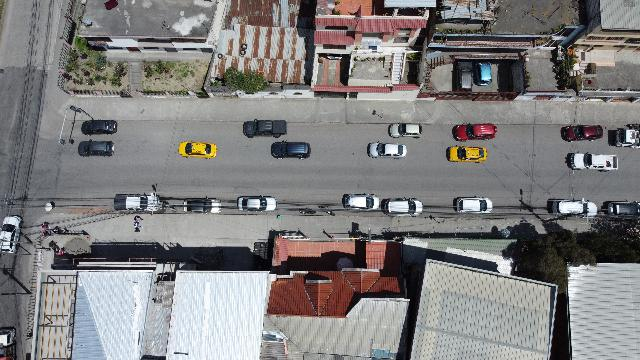Vehiculo: (566, 152, 618, 172), (114, 192, 161, 211), (546, 199, 598, 216), (244, 118, 286, 138), (0, 215, 22, 253), (271, 140, 311, 160), (381, 197, 423, 216), (453, 123, 497, 141), (561, 124, 603, 142), (453, 196, 493, 214), (179, 141, 217, 159), (367, 142, 407, 158), (447, 146, 487, 162), (342, 194, 380, 210), (184, 198, 221, 214), (78, 140, 114, 156), (81, 120, 117, 136), (238, 196, 276, 211), (604, 201, 640, 216), (456, 61, 472, 91), (388, 124, 422, 138), (474, 62, 492, 86)
